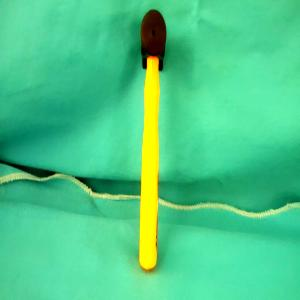martelo: (139, 8, 167, 272)
